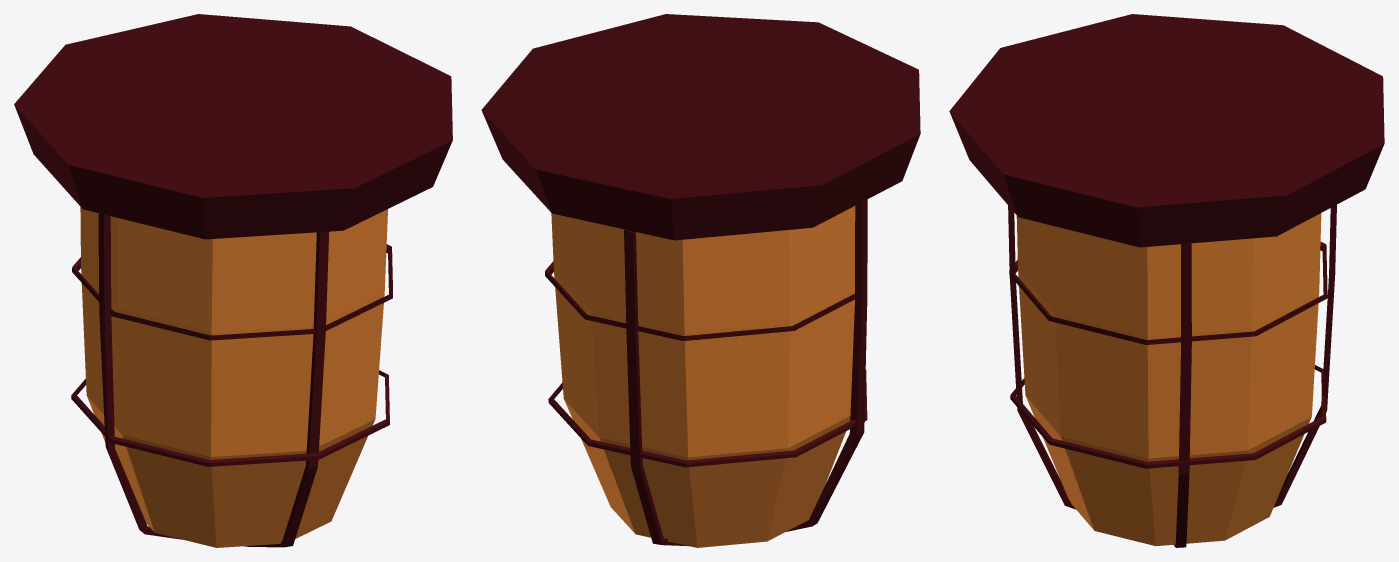
The model's file is ceilinglamp.fbx.
3 renders of one model, left to right at view 1: azimuth 30°, elevation 25°; view 2: azimuth 150°, elevation 25°; view 3: azimuth 270°, elevation 25°, orthographic.
Parts seen in each view (by area): view 1: LampBulbBody, LampBulbLight; view 2: LampBulbBody, LampBulbLight; view 3: LampBulbBody, LampBulbLight.
Boxes of the visible parts, x1,y1,x2,y2 form: LampBulbBody: [14, 14, 452, 547]; LampBulbLight: [80, 207, 387, 547]; LampBulbBody: [481, 14, 920, 546]; LampBulbLight: [551, 206, 855, 547]; LampBulbBody: [949, 14, 1384, 547]; LampBulbLight: [1016, 213, 1321, 545].
Size of the model in its own units: 0.5635 by 0.6019 by 0.5559.
